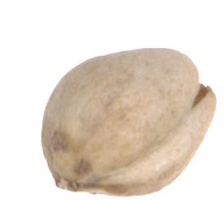L1: (177, 51, 216, 105), (49, 169, 104, 196)
L2: (41, 47, 216, 196)
